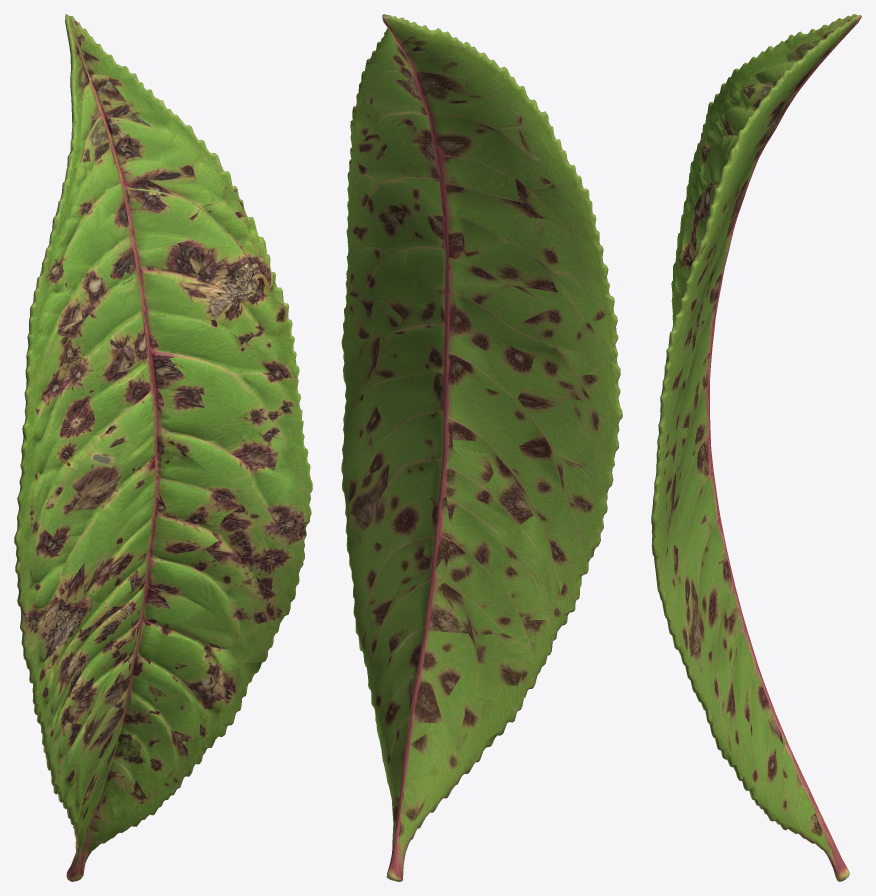
The model's file is peach_bacterial_spot.glb.
3 renders of one model, left to right at view 1: azimuth 30°, elevation 25°; view 2: azimuth 150°, elevation 25°; view 3: azimuth 270°, elevation 25°, orthographic.
Visible parts, largest first — view 1: peach_bacterial_spot; view 2: peach_bacterial_spot; view 3: peach_bacterial_spot.
Part boxes in pixels (<box>): peach_bacterial_spot: <box>14,14,312,881</box>; peach_bacterial_spot: <box>341,14,622,881</box>; peach_bacterial_spot: <box>651,14,861,881</box>.
Size of the model in its own units: 0.3493 by 1 by 0.2205.
1 material, 1 textured.
